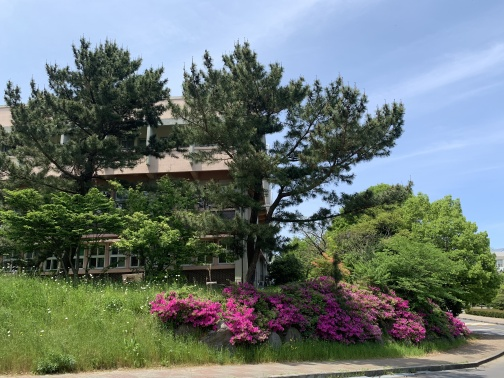College Of Education: (1, 87, 286, 289)
